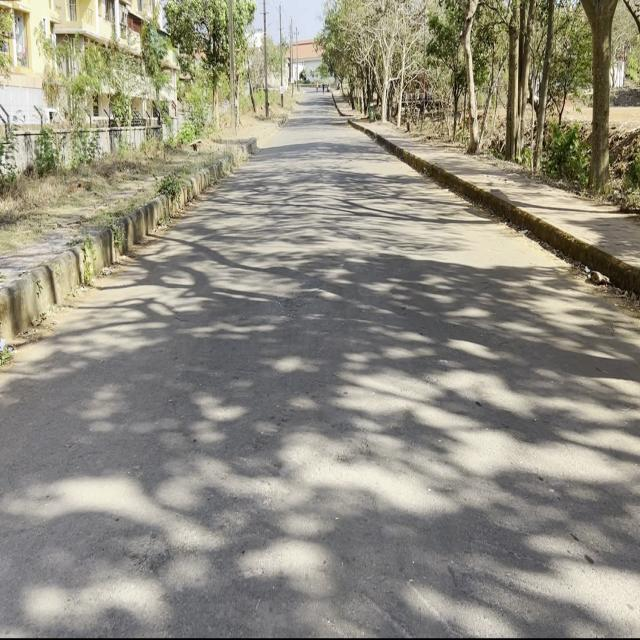Road: (4, 90, 636, 630)
